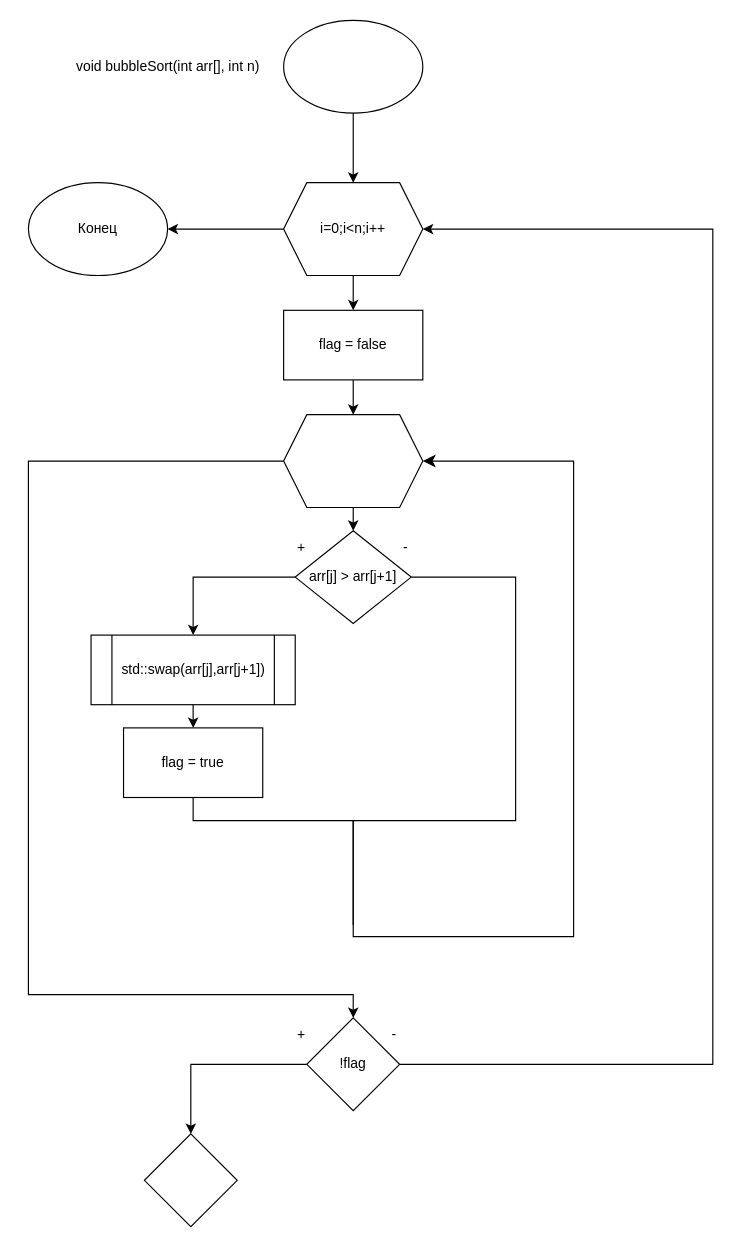
Some shapes in this 742 by 1247 pixel diagram are drawn without their labels. The shapes that lost their labels are listed below. From the top down, each one's centre as x and y in pixels, then its label:
(x=352, y=66): Начало
(x=352, y=460): j=0;j<n-i-1;j++
(x=190, y=1180): break
